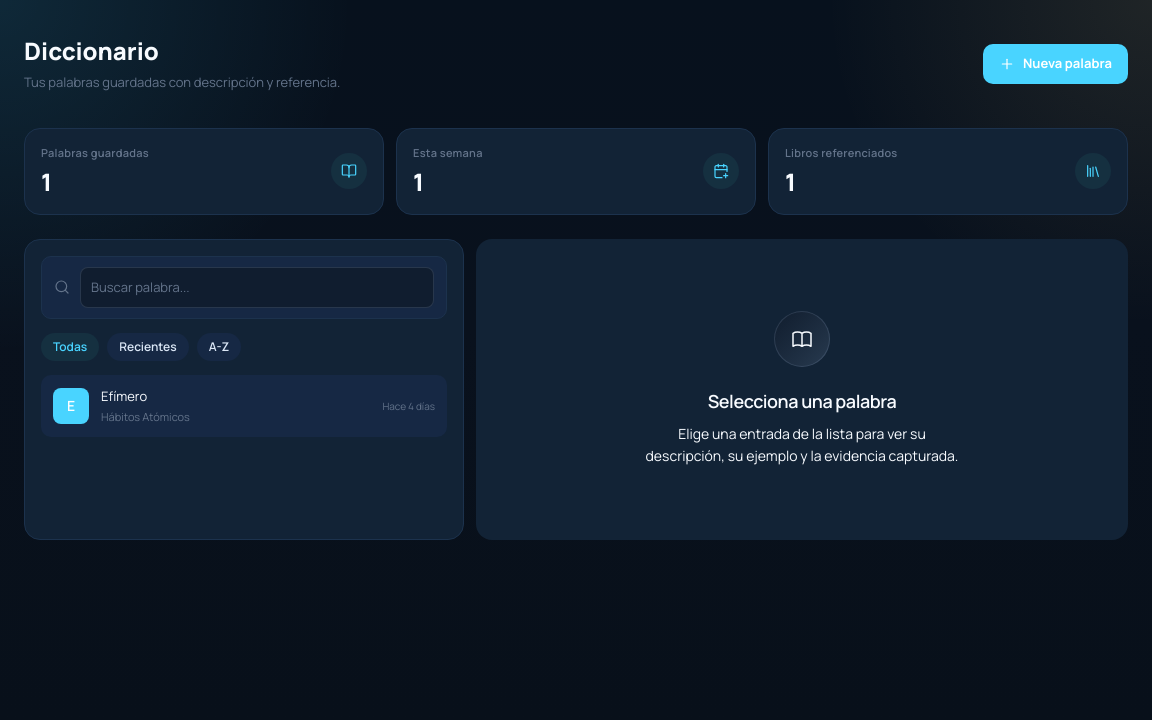
DictionaryView detail panel (4C) › renders every populated field from real data (REQ-DRE-009 scenario 1)
Click the button with test id "dictionary-row" at (71, 406), box [41, 375, 447, 437]
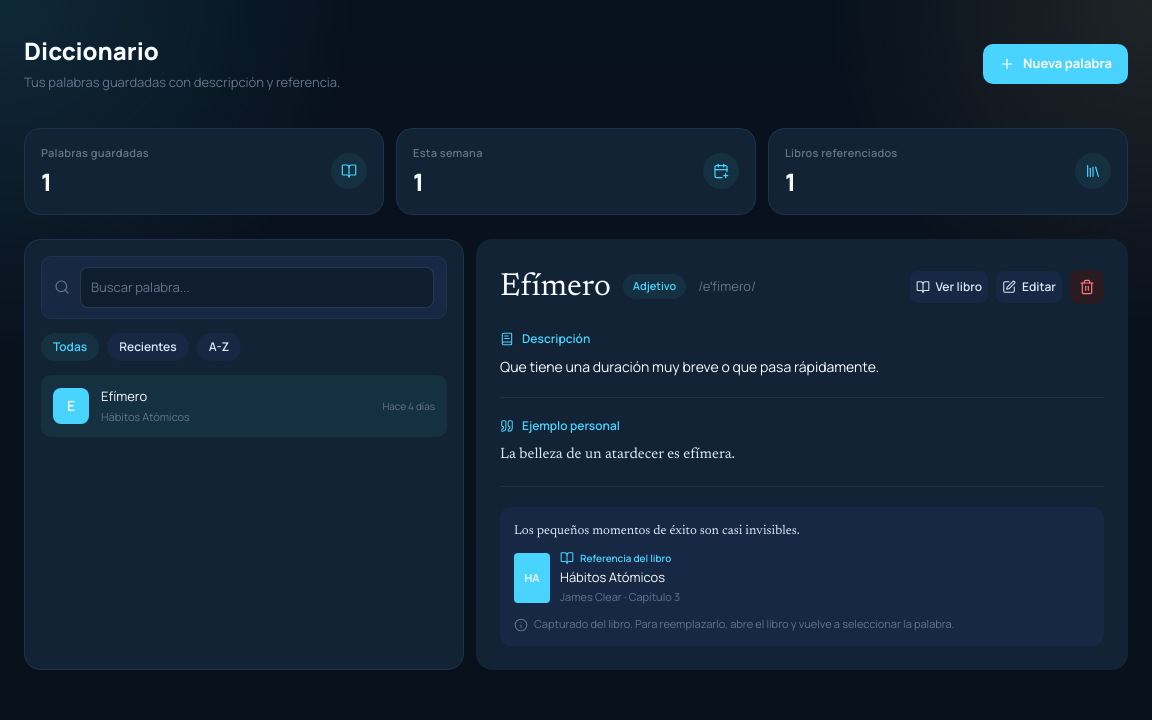
Now the heading with test id "dictionary-detail-term" reads "Efímero", box [500, 270, 611, 302]
Now the text with test id "dictionary-detail-tag" reads "Adjetivo", box [633, 278, 676, 293]
Now the text with test id "dictionary-detail-definition" reads "Que tiene una duración muy breve o que pasa rápidamente.", box [500, 356, 879, 376]
